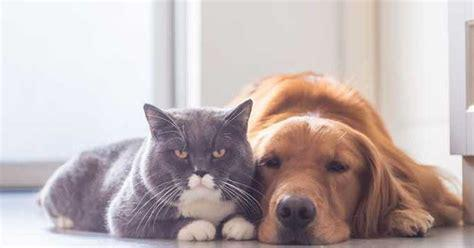cat: (40, 99, 252, 239)
dog: (248, 72, 464, 244)
